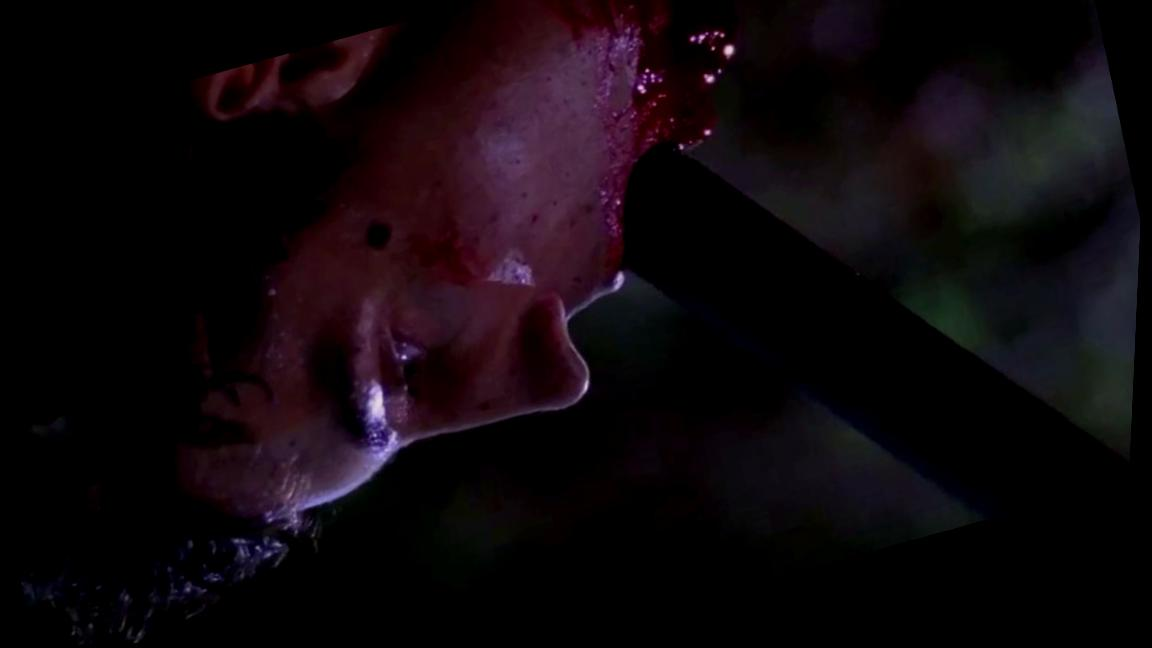Fire: (635, 0, 738, 157)
